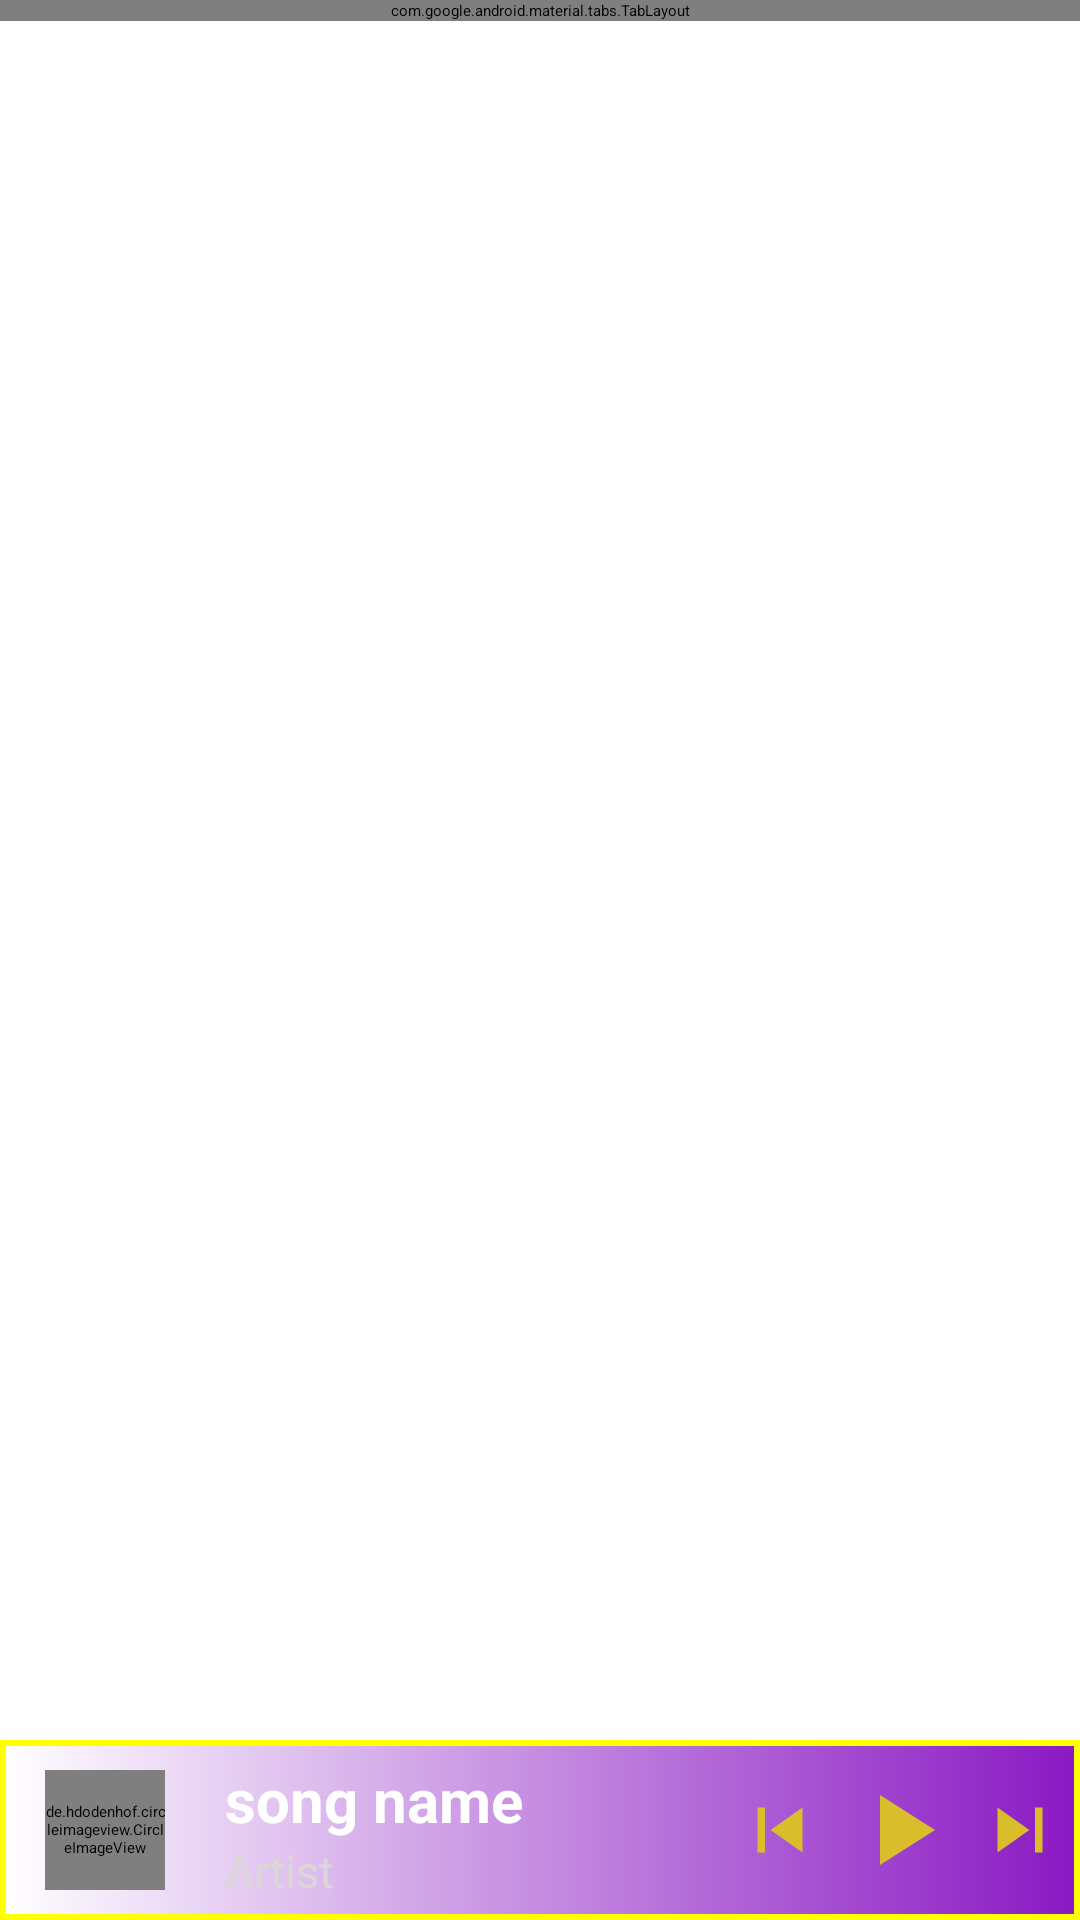

Icon bounding boxes for this 1080px×1920px phone screenshot, format [left=x1, top=y1, right=x2, bottom=y2]:
next mini play: [left=997, top=1807, right=1043, bottom=1853]
play mini: [left=880, top=1795, right=935, bottom=1865]
previous mini play: [left=757, top=1807, right=803, bottom=1853]
